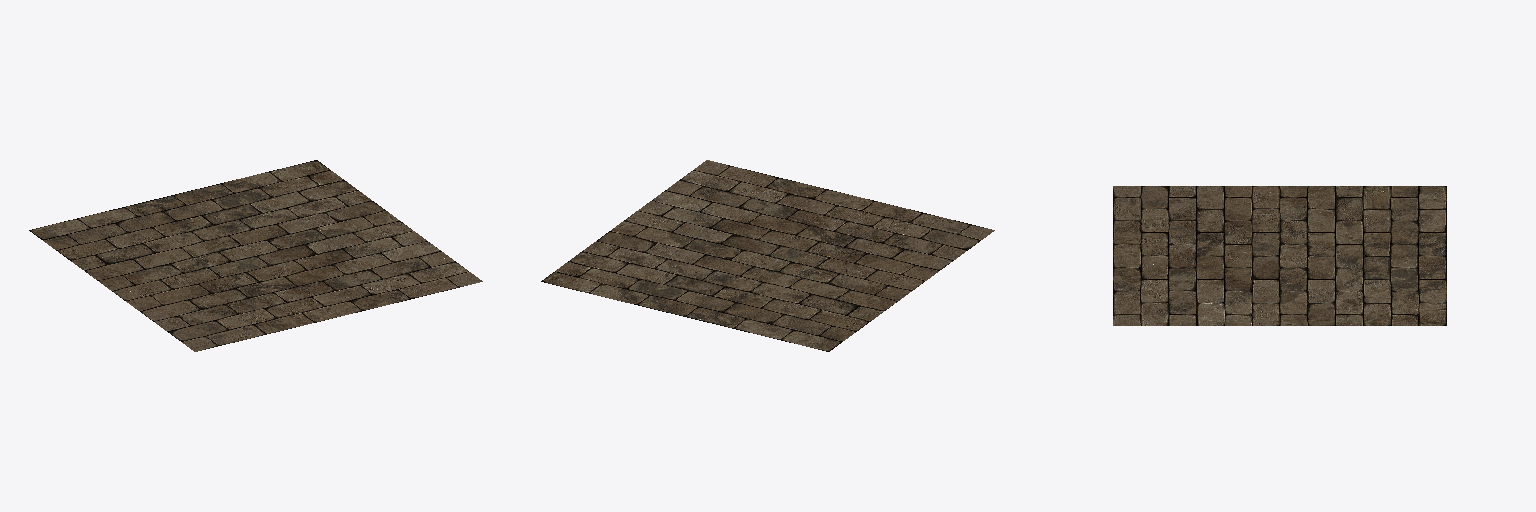
The picture shows the model from 3 angles: view 1: azimuth 30°, elevation 25°; view 2: azimuth 150°, elevation 25°; view 3: azimuth 270°, elevation 25°; orthographic projection.
Parts seen in each view (by area): view 1: Cube; view 2: Cube; view 3: Cube.
Part boxes in pixels (left/top/right/bottom): Cube: left=29, top=160, right=482, bottom=351; Cube: left=541, top=160, right=994, bottom=351; Cube: left=1113, top=186, right=1446, bottom=325.
Size of the model in its own units: 9.68 by 0 by 9.68.
1 materials, 1 textured.